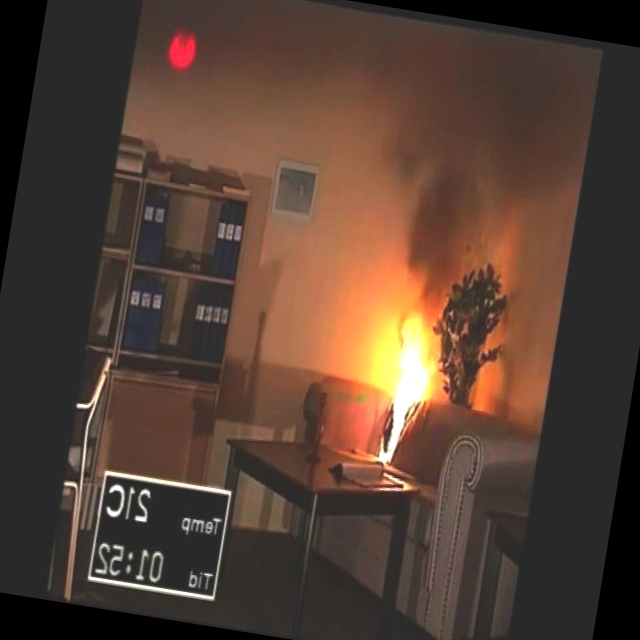fire: (351, 316, 450, 468)
